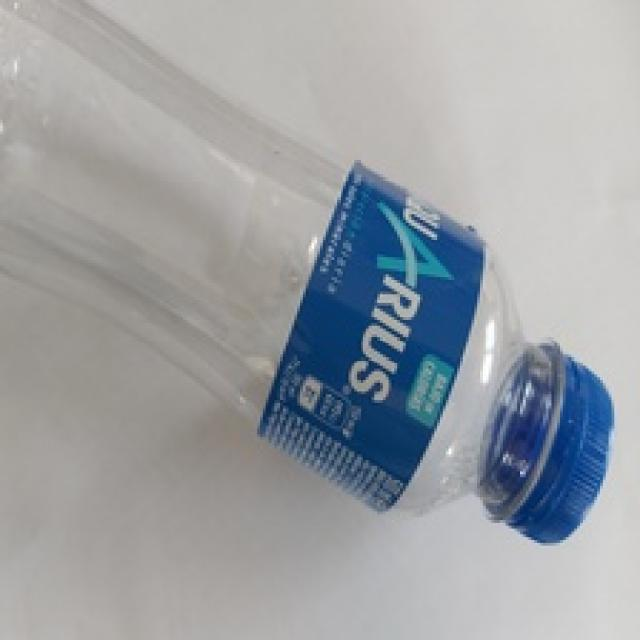Plastic: (0, 0, 616, 543)
